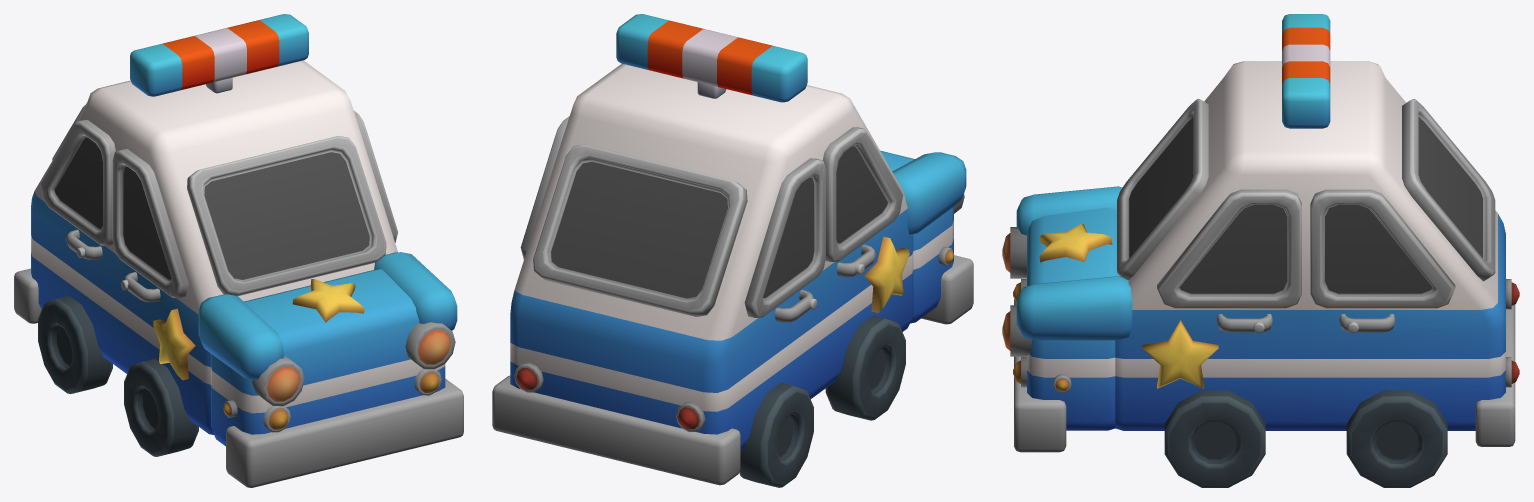
Rendered from mct_car_07.fbx.
The picture shows the model from 3 angles, left to right: view 1: azimuth 30°, elevation 25°; view 2: azimuth 150°, elevation 25°; view 3: azimuth 270°, elevation 25°; orthographic projection. The views are drawn at different scales.
Visible parts, largest first — view 1: mct_car_07, mct_car_07_w; view 2: mct_car_07, mct_car_07_w; view 3: mct_car_07, mct_car_07_w.
Part boxes in pixels (x1,y1,x2,y2): mct_car_07: (14, 14, 463, 487); mct_car_07_w: (38, 296, 198, 456); mct_car_07: (492, 14, 973, 485); mct_car_07_w: (739, 315, 905, 487); mct_car_07: (1002, 14, 1519, 452); mct_car_07_w: (1164, 390, 1447, 487).
Bounding box in the file's own units: 130 × 186 × 231.
